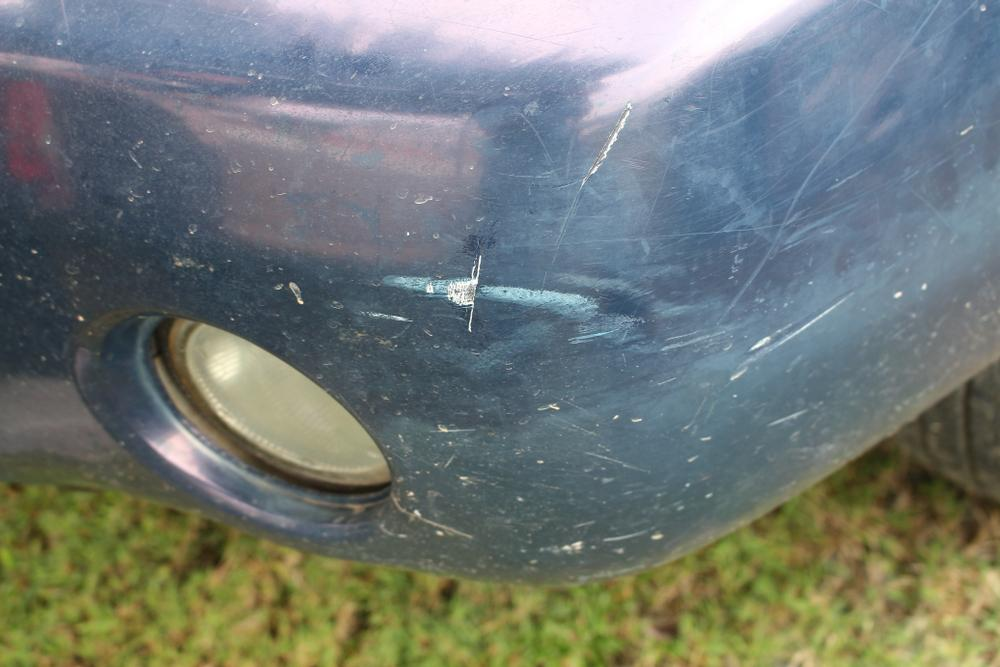scratch: (345, 255, 642, 348)
